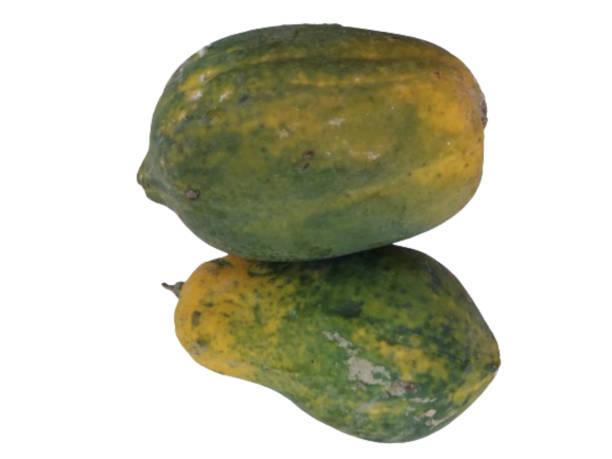papaya: (114, 17, 495, 263), (142, 238, 510, 446)
